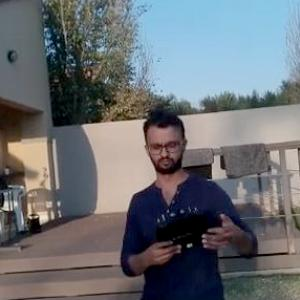follow: (111, 101, 263, 299)
